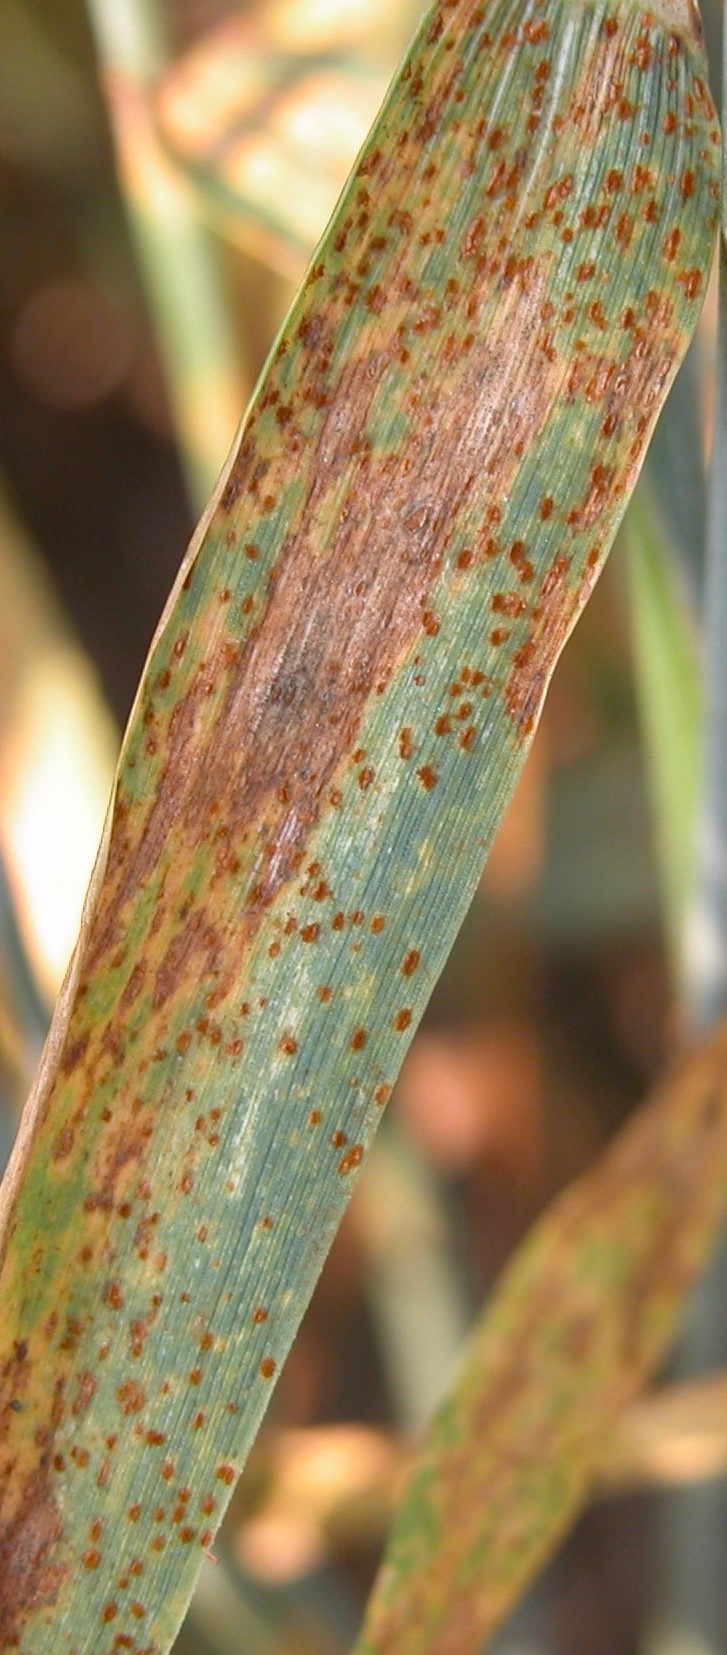Leaf Rust: (100, 122, 691, 1276)
